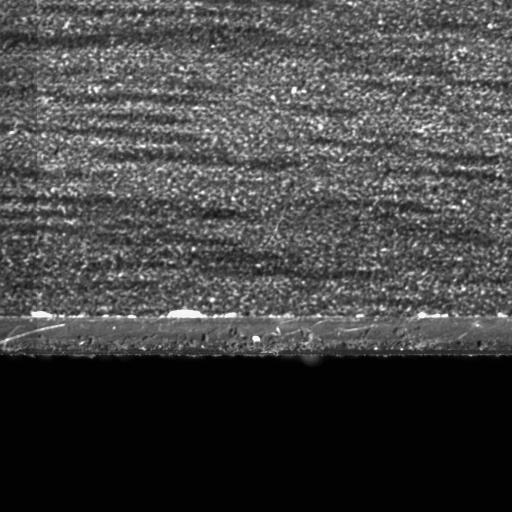huashang: (165, 308, 212, 320), (31, 310, 59, 320)
